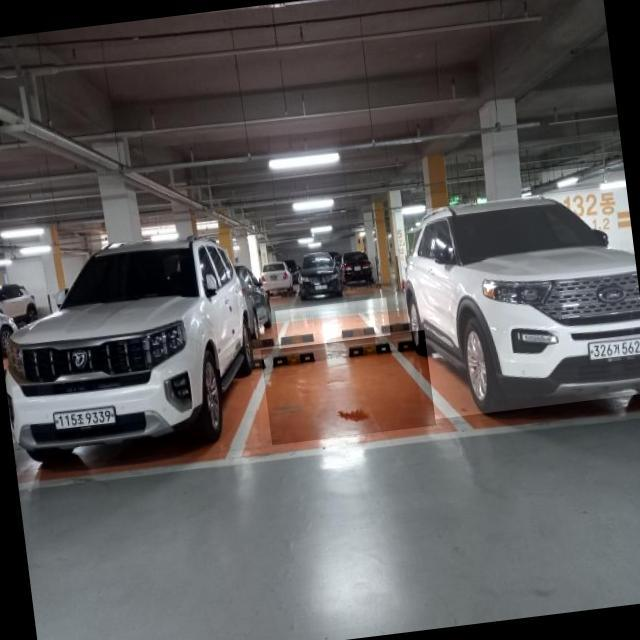empty: (260, 330, 436, 444), (274, 297, 390, 348)
occupied: (0, 230, 262, 471), (394, 184, 640, 421)
